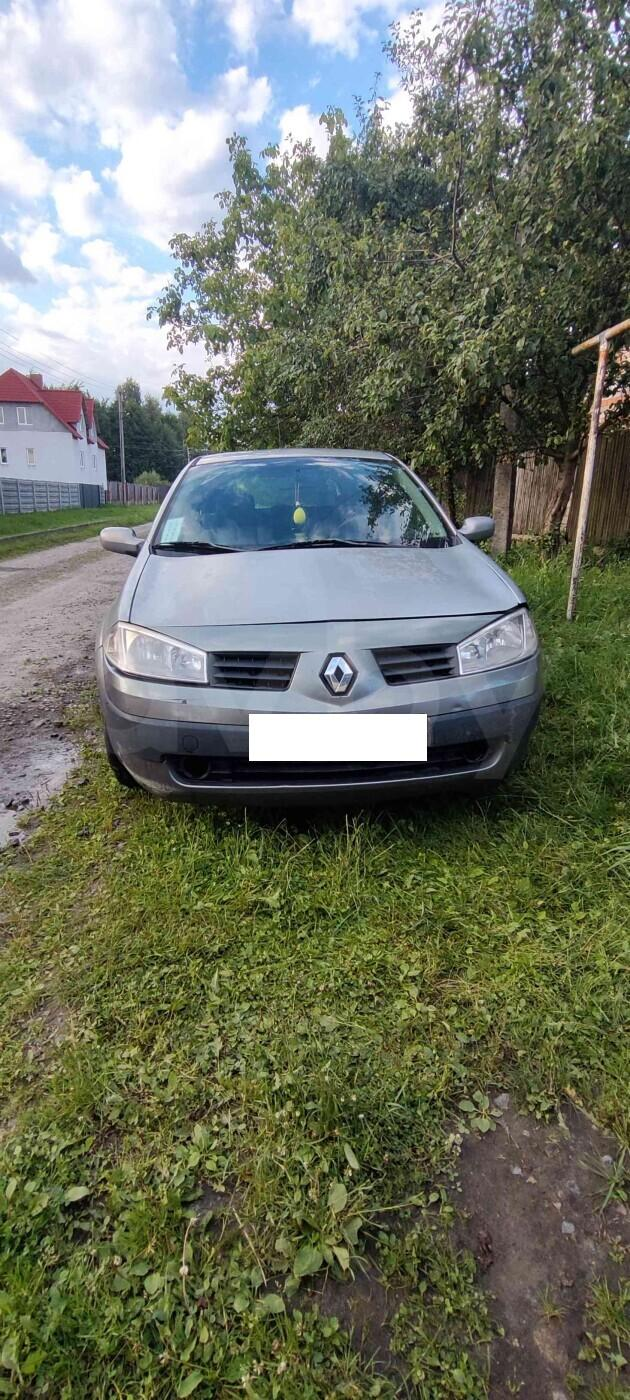Megane_2002-2006: (92, 450, 542, 830)
